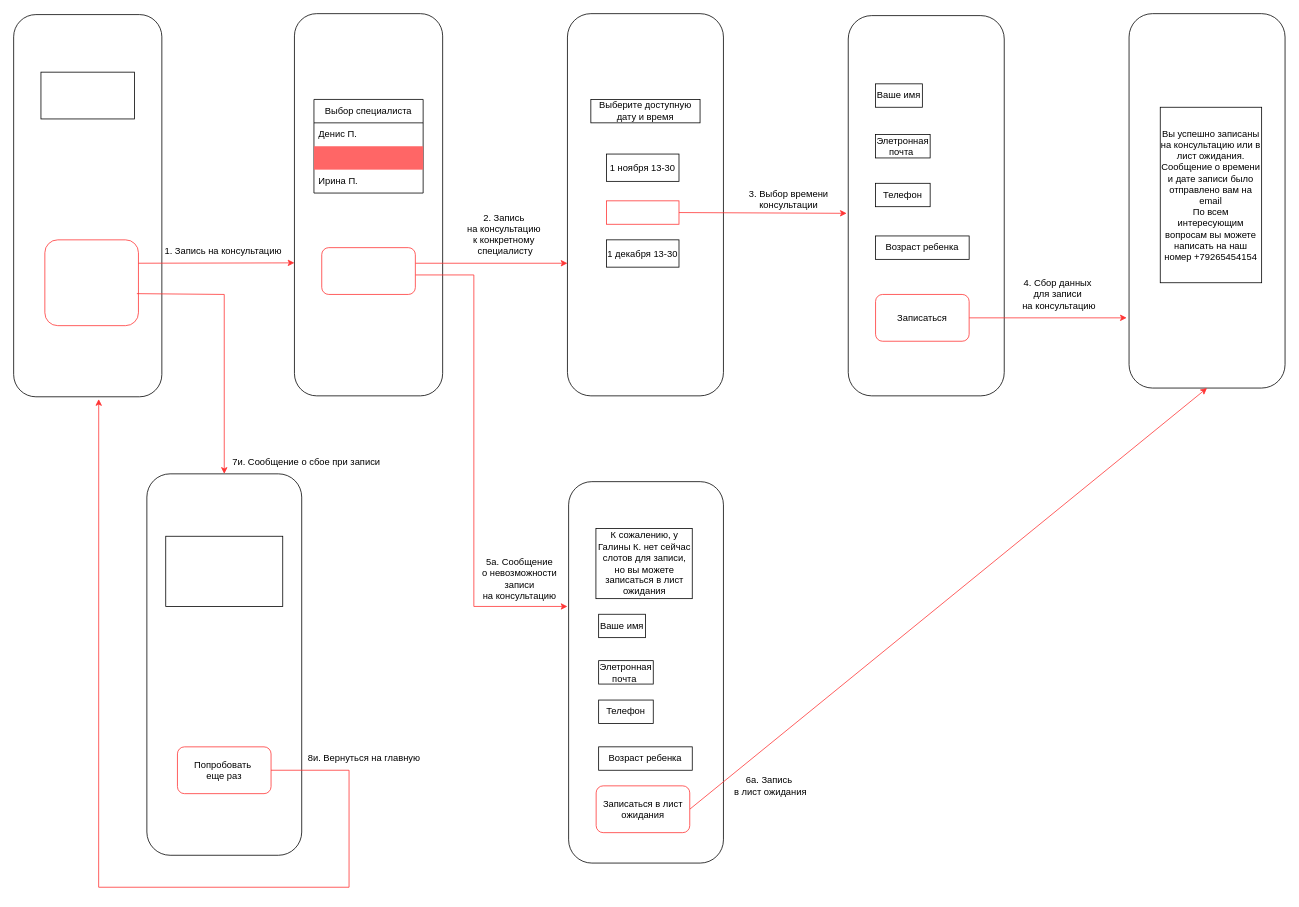
Some shapes in this 1299 by 907 pixel diagram are drawn without their labels. Each missing label, with the box of its shape:
15 ноября 12-00: (606, 200, 679, 224)
Галина К.: (314, 146, 423, 169)
Главная страница сайта: (40, 71, 135, 119)
Записаться на консультацию: (321, 247, 415, 294)
Записаться на консультацию к специалисту: (44, 239, 138, 326)
При записи произошла ошибка: (165, 535, 283, 606)
